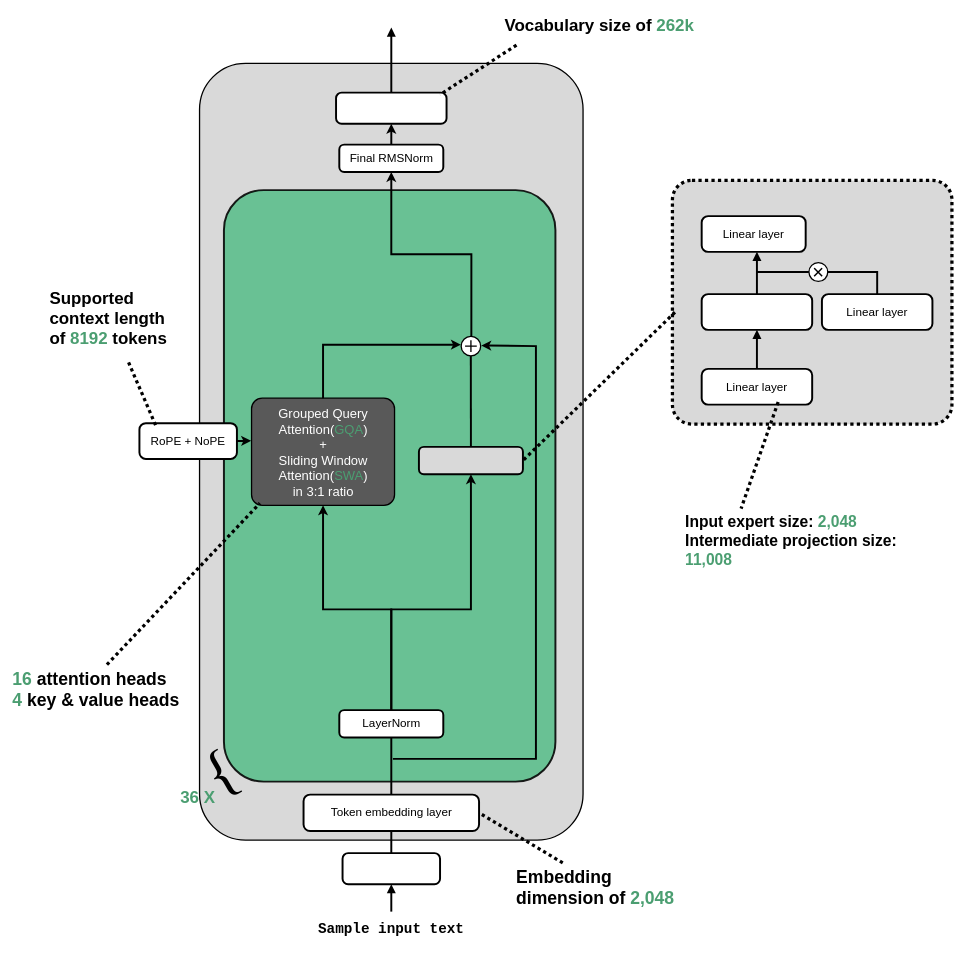
This 965x955 diagram has some shape labels left out. Here are the shapes that lost their labels. From the top down, the centre of each, then its label:
At pixel 391 107: "Linear output layer".
At pixel 756 312: "SiLU activation".
At pixel 471 460: "Feed foward".
At pixel 391 868: "Tokenized text".
